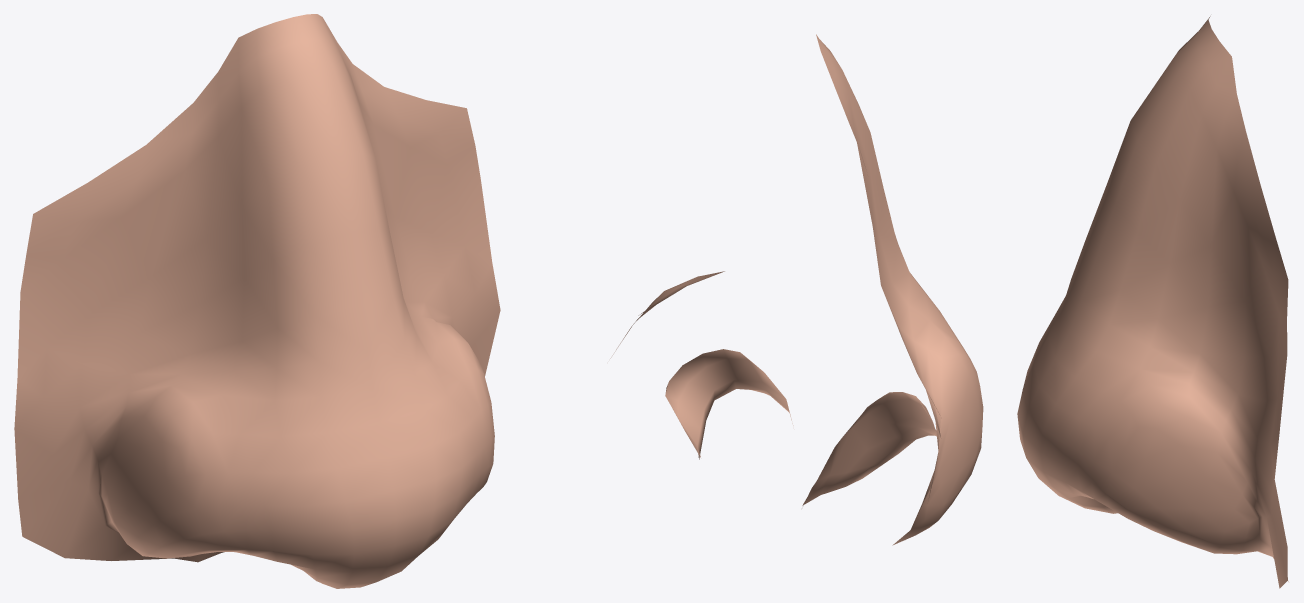
File: nose_01.glb
3 views of the same model, side by side, from view 1: azimuth 30°, elevation 25°; view 2: azimuth 150°, elevation 25°; view 3: azimuth 270°, elevation 25° (orthographic). The views are drawn at different scales.
Visible parts, largest first — view 1: nose_05; view 2: nose_05; view 3: nose_05.
Part boxes in pixels (box(x1,y1,x2,y2)): nose_05: box(14, 14, 500, 588); nose_05: box(610, 34, 983, 545); nose_05: box(1017, 16, 1288, 588).
Size of the model in its own units: 0.000982 by 0.00109 by 0.000515.
Materials: 1 (1 with a texture image).
